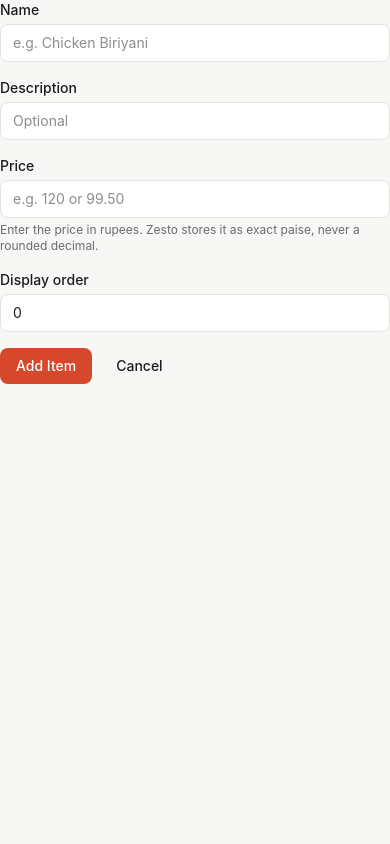
MenuItemForm (create) › rejects an invalid price
In the field labelled "Name": (195, 43) [0, 24, 389, 62], type "Chicken Biriyani"
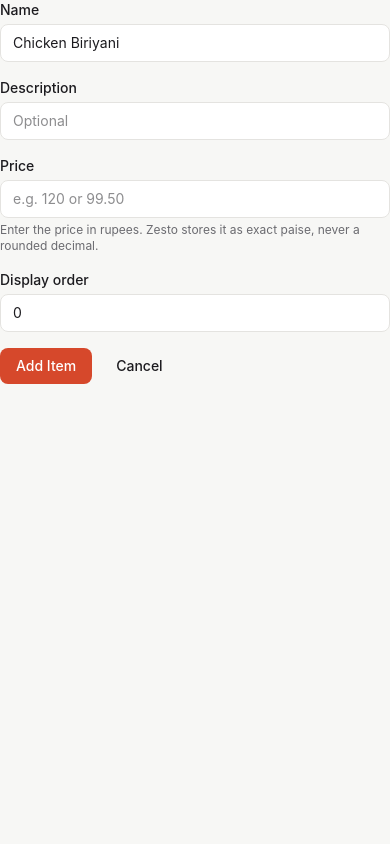
Click the button "Add Item": (46, 366) [0, 348, 92, 384]
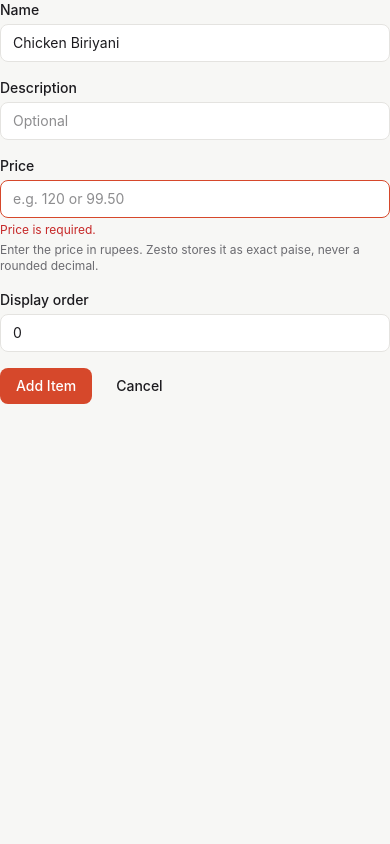
Result: the text "Price is required." is shown at [0, 222, 96, 237]
